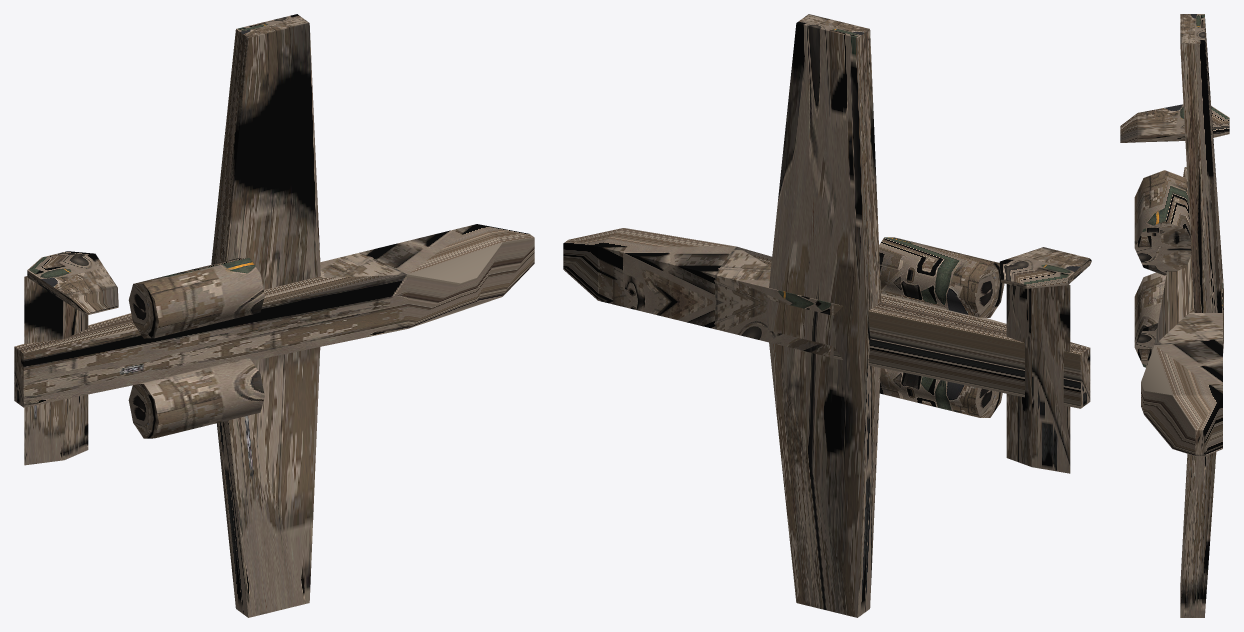
The model's file is veh_t6_air_a10f_LOD3.obj.
The picture shows the model from 3 angles, left to right: view 1: azimuth 30°, elevation 25°; view 2: azimuth 150°, elevation 25°; view 3: azimuth 270°, elevation 25°; orthographic projection.
Visible parts, largest first — view 1: mtl_veh_t6_a10f; view 2: mtl_veh_t6_a10f; view 3: mtl_veh_t6_a10f.
Part boxes in pixels (box(x1,y1,x2,y2)): mtl_veh_t6_a10f: box(14, 14, 534, 617); mtl_veh_t6_a10f: box(563, 14, 1091, 617); mtl_veh_t6_a10f: box(1120, 14, 1229, 617).
Bounding box in the file's own units: 1631 × 1751 × 303.
